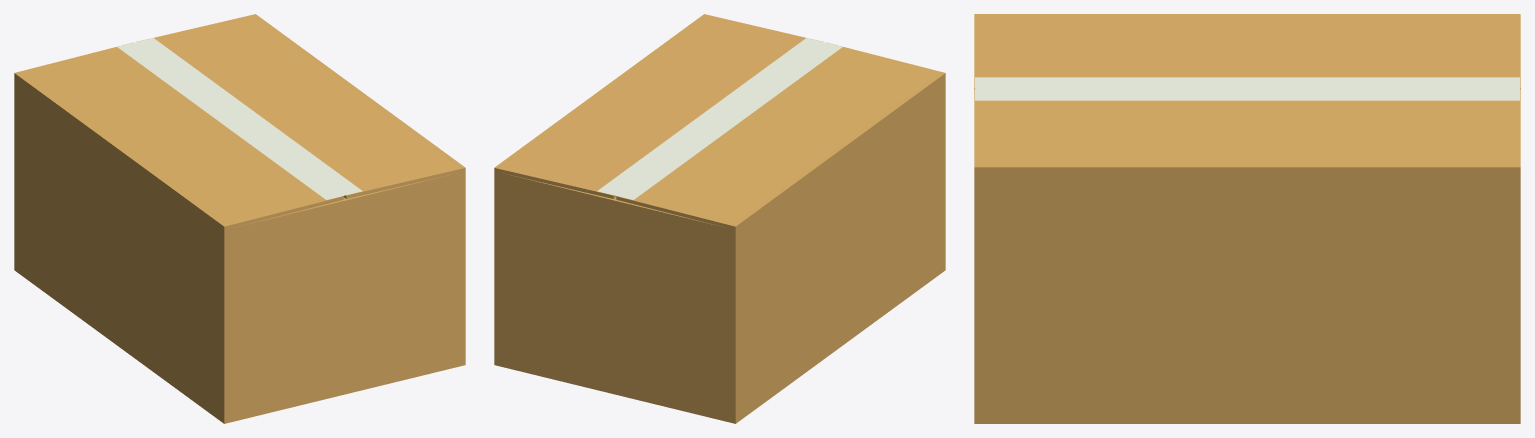
File: pudlo2.fbx
3 renders of one model, left to right at view 1: azimuth 30°, elevation 25°; view 2: azimuth 150°, elevation 25°; view 3: azimuth 270°, elevation 25°, orthographic. The views are drawn at different scales.
Visible parts, largest first — view 1: Cube, Prostokąt; view 2: Cube, Prostokąt; view 3: Cube, Prostokąt.
Boxes of the visible parts, x1,y1,x2,y2 form: Cube: [14, 14, 465, 423]; Prostokąt: [117, 38, 362, 199]; Cube: [494, 14, 945, 423]; Prostokąt: [597, 38, 842, 199]; Cube: [974, 14, 1520, 423]; Prostokąt: [975, 77, 1519, 100].
Size of the model in its own units: 193 by 152 by 291.
